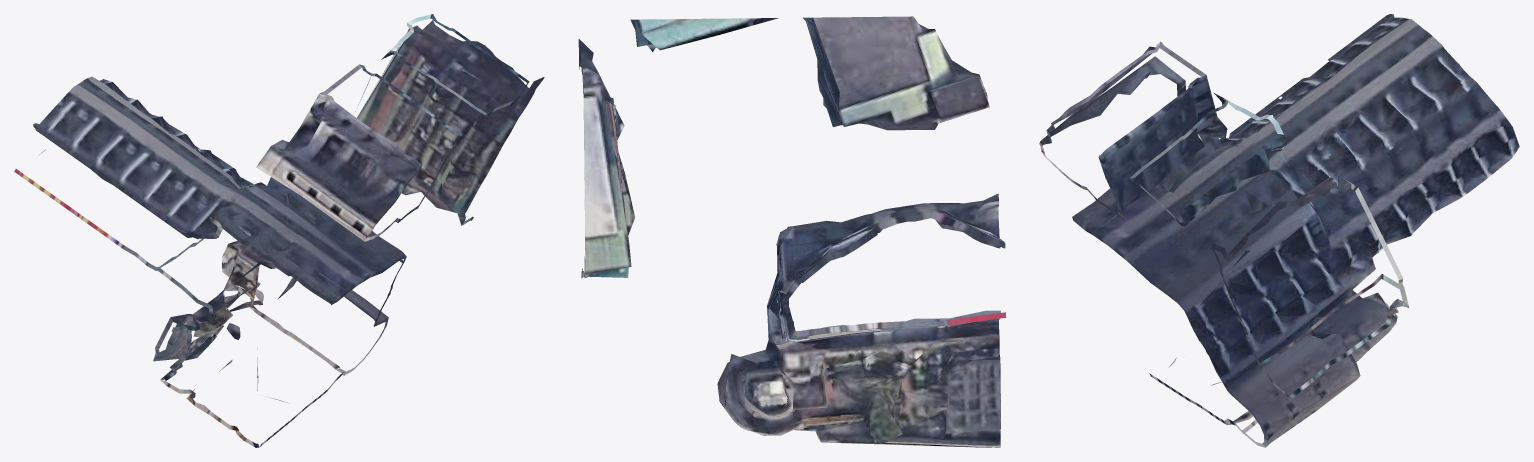
3 views of the same model, side by side, from view 1: azimuth 30°, elevation 25°; view 2: azimuth 150°, elevation 25°; view 3: azimuth 270°, elevation 25° (orthographic). The views are drawn at different scales.
Bounding box in the file's own units: 52.28 × 38.23 × 44.7.
1 material, 1 textured.
